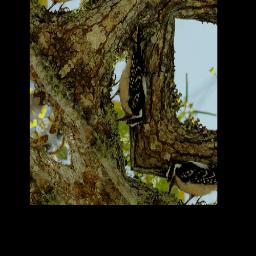Woodpecker: (86, 23, 182, 140)
